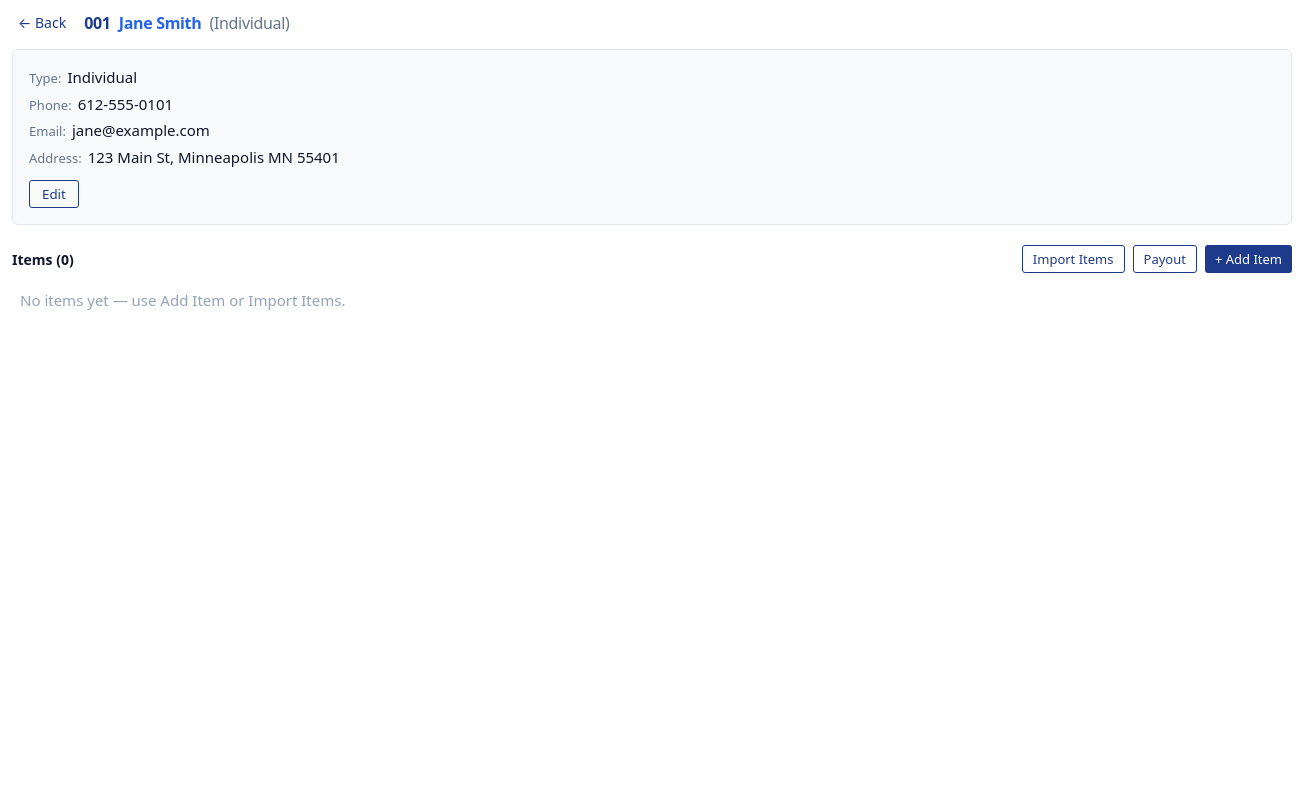
Scenario: SellerDetailPage › renders the contact edit form like the registration form
This screenshot has width=1304, height=787.
Click the button "Edit": (54, 194) [29,180,79,208]
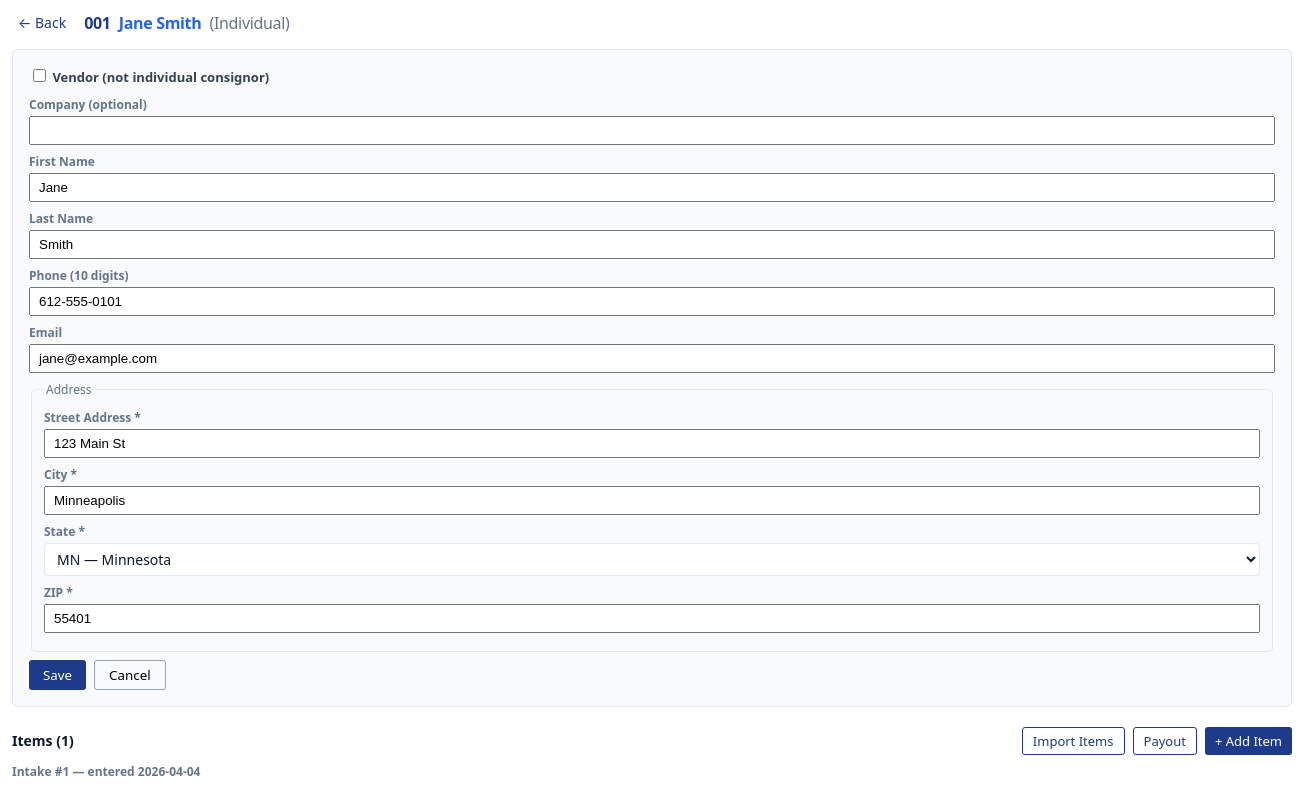
Result: the text "Address" is shown at [44,380,93,398]
Result: the field labelled "Street Address *" holds "123 Main St" at [44,428,1260,458]
Result: the dropdown labelled "State *" shows "MN — Minnesota" at [44,542,1260,576]
